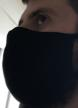with_mask: (2, 2, 78, 108)
